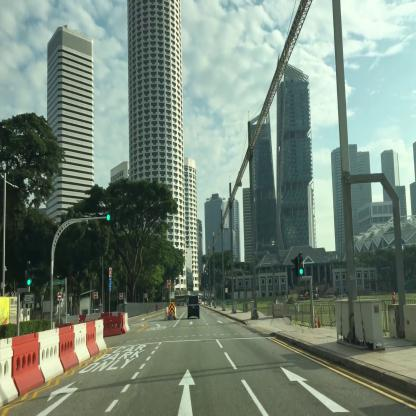green_traffic_light: (106, 211, 119, 222), (298, 255, 304, 274)
